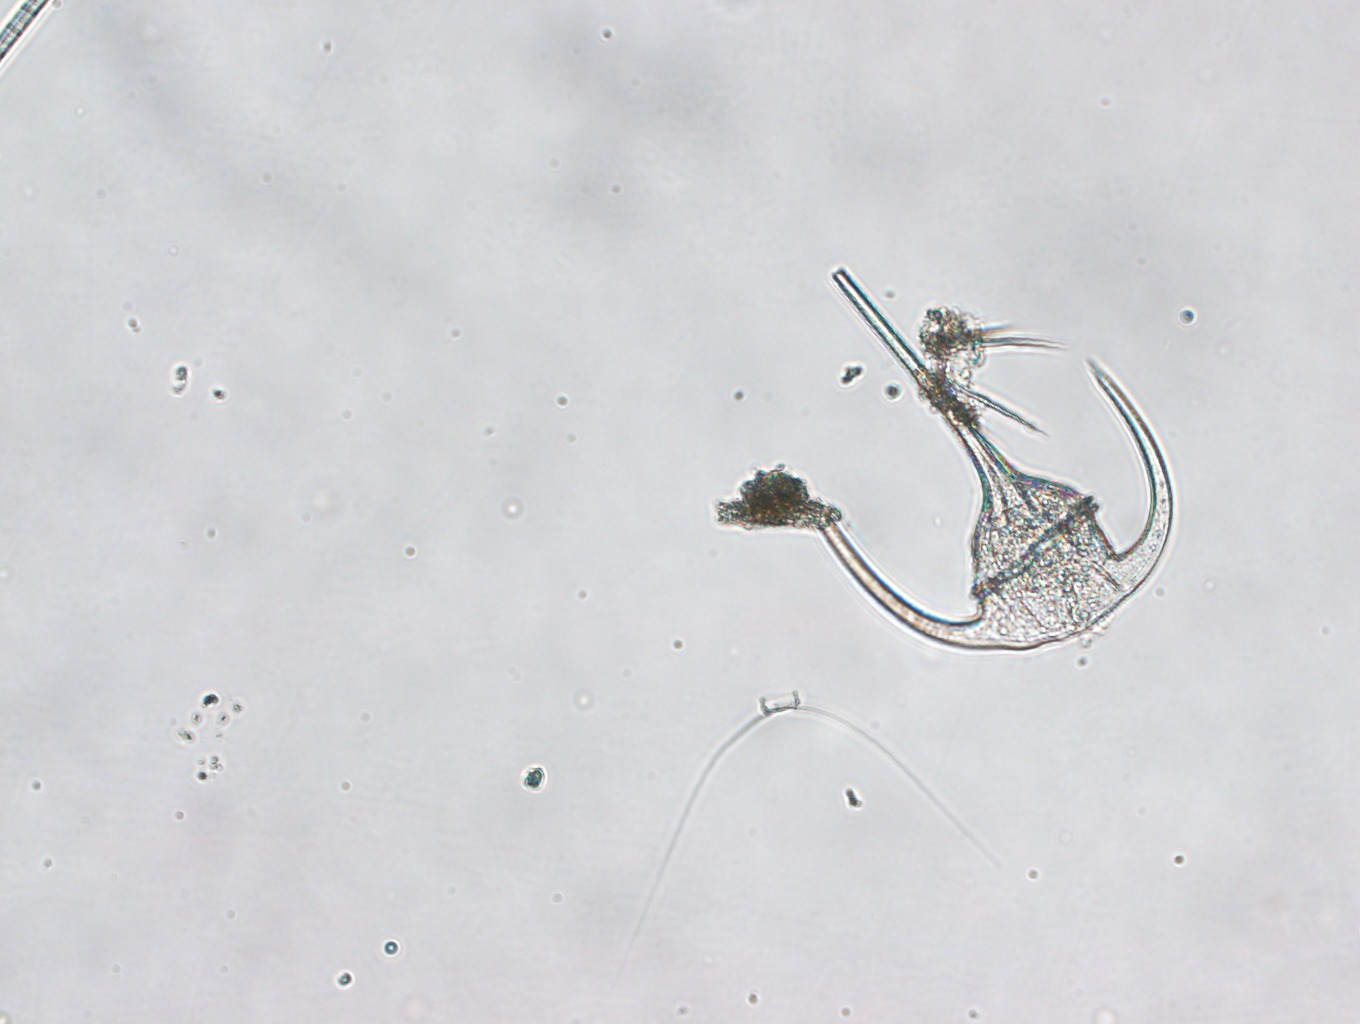ceratium tripos: (822, 269, 1173, 651)
chaetoceros: (613, 691, 1010, 985)
